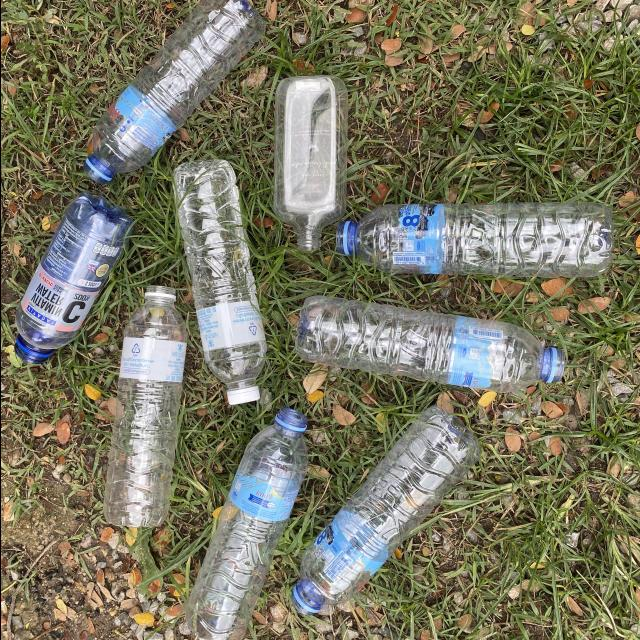plastik: (291, 406, 478, 614), (83, 0, 264, 183), (185, 409, 307, 640), (295, 296, 564, 393), (173, 160, 265, 405), (336, 203, 612, 278), (14, 192, 132, 364), (102, 285, 185, 528), (273, 76, 346, 251)
